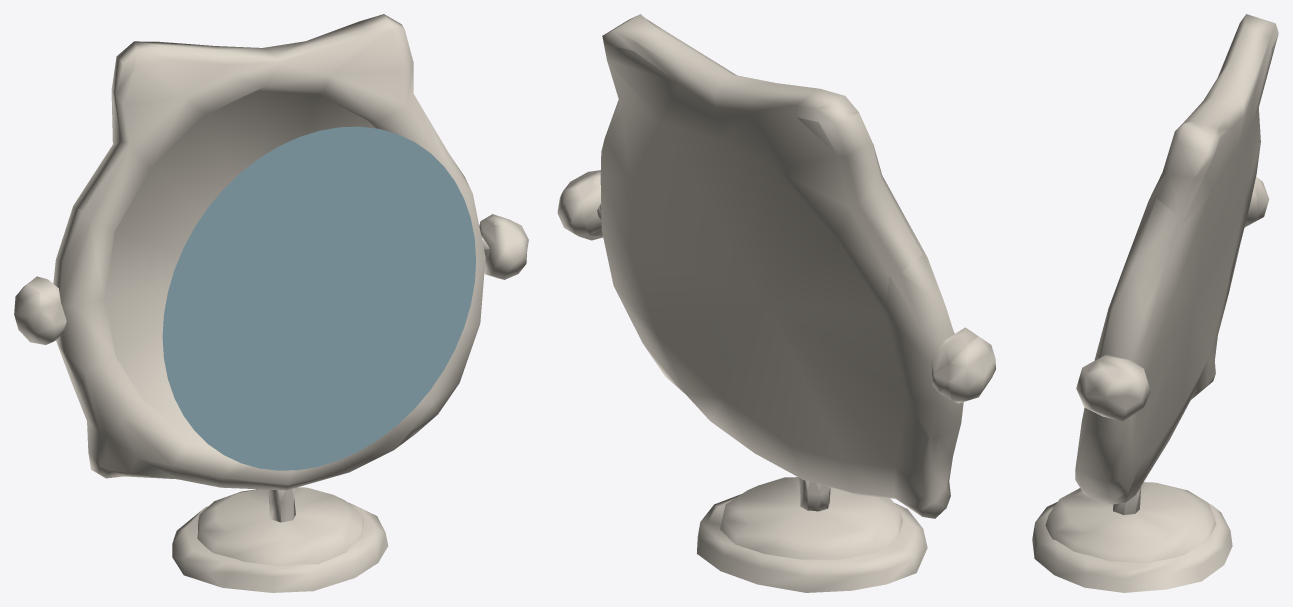
The model's file is bedroom_mirror.glb.
The picture shows the model from 3 angles, left to right: view 1: azimuth 30°, elevation 25°; view 2: azimuth 150°, elevation 25°; view 3: azimuth 270°, elevation 25°; orthographic projection. The views are drawn at different scales.
Size of the model in its own units: 0.44 by 0.45 by 0.2052.
